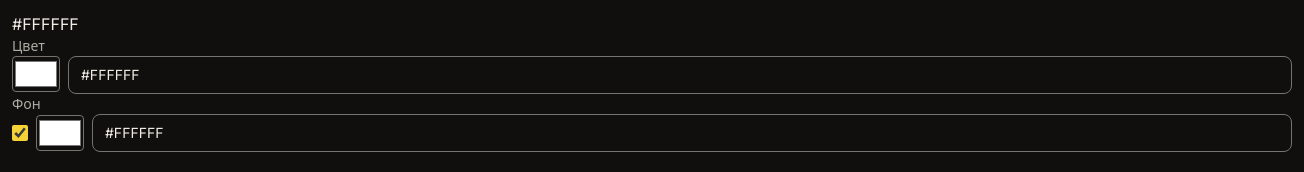
Test: поле цвета › выбор в палитре виден в поле с кодом и уходит в форму
In the colour field with id "color": [36, 74] box [12,56,60,92], type "#ff0000"
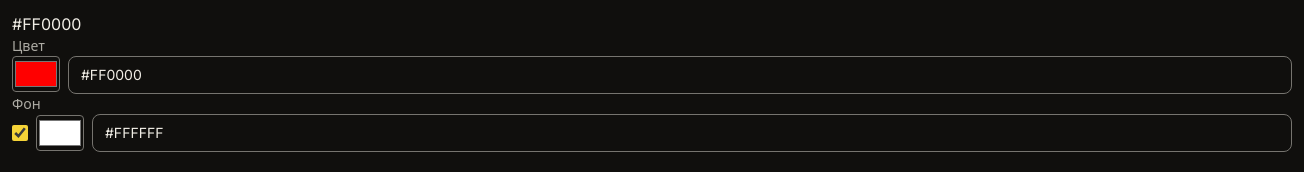
Result: the field named "Цвет, HEX" holds "#FF0000" at [68,56,1292,94]
Result: the text with test id "value" reads "#FF0000" at [12,14,81,34]
